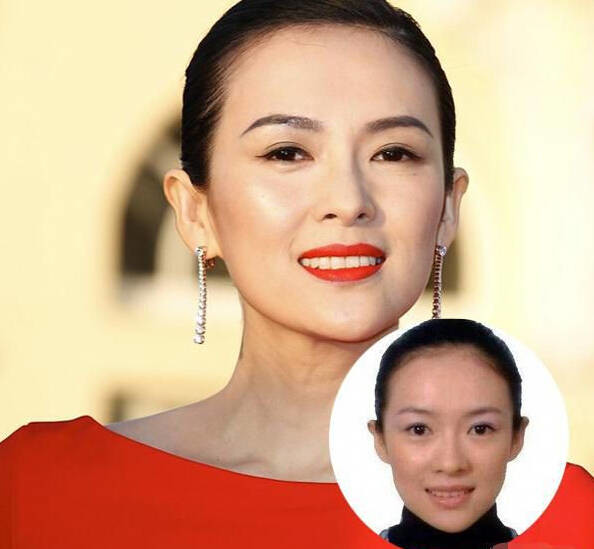unmask: (231, 59, 435, 320), (389, 382, 514, 516)
